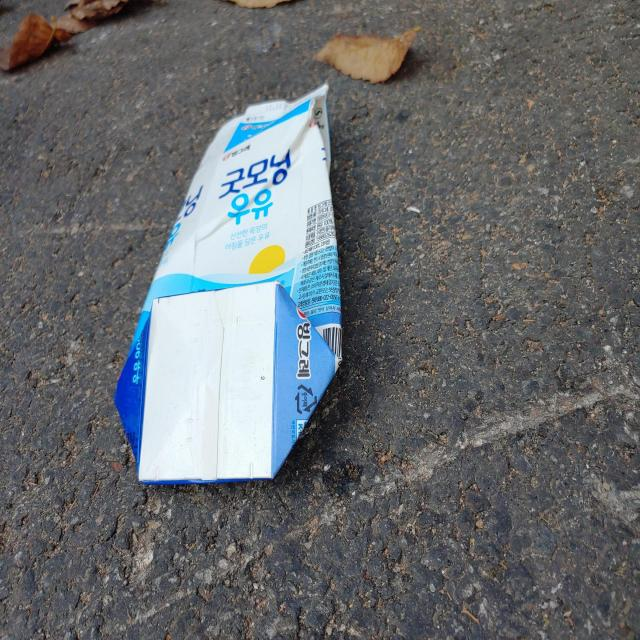paperpack: (114, 84, 342, 485)
